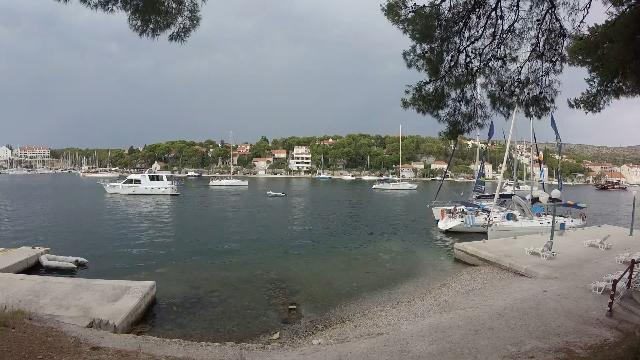Sailboat: (366, 175, 424, 195), (206, 170, 254, 190)
ferry: (92, 167, 185, 201)
speedboat: (263, 185, 289, 200)
